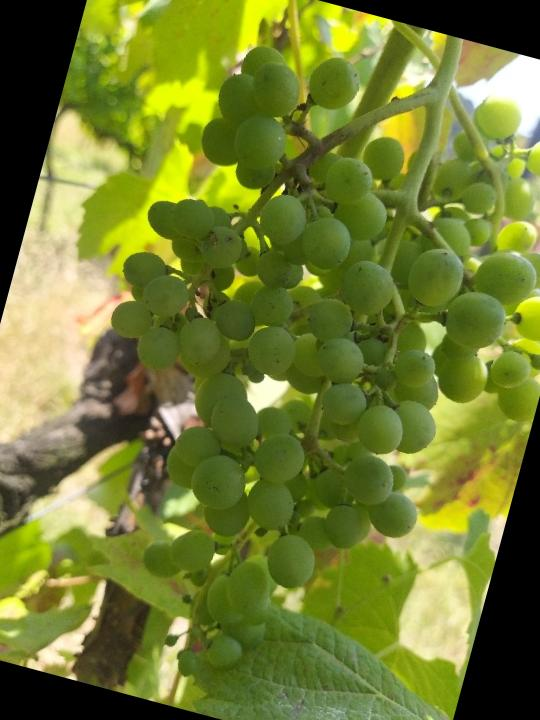grape: (23, 12, 540, 720)
